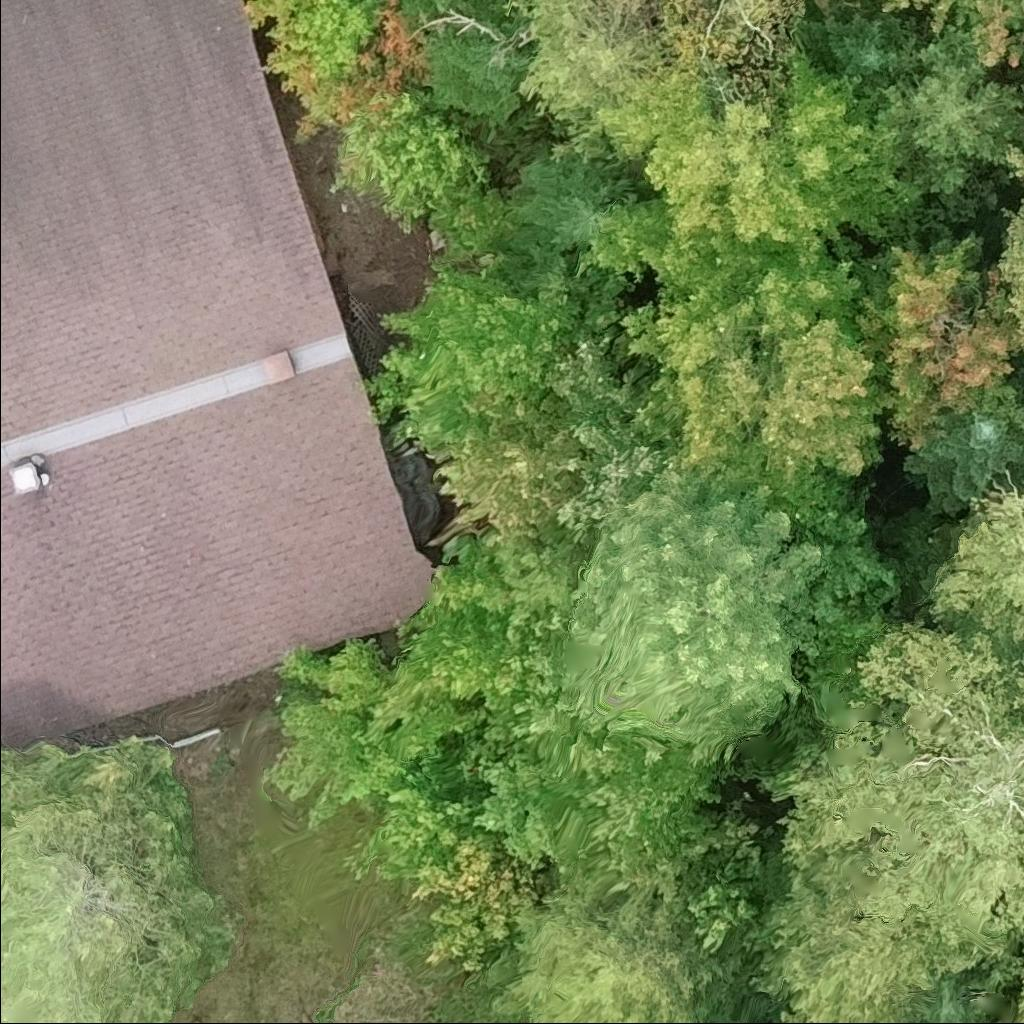crown: (574, 199, 899, 508), (760, 609, 1023, 951), (551, 31, 926, 267), (566, 450, 825, 768), (0, 739, 238, 1023), (366, 244, 598, 451), (752, 843, 983, 1023), (485, 868, 742, 1023), (855, 237, 1023, 451), (863, 11, 1023, 193), (547, 717, 724, 879), (329, 86, 493, 234), (506, 0, 685, 132), (262, 699, 420, 838), (422, 419, 583, 548), (242, 0, 384, 144), (411, 828, 545, 977), (362, 602, 518, 729), (498, 141, 657, 262), (922, 469, 1023, 653), (660, 0, 814, 98), (424, 0, 532, 128), (901, 407, 1023, 514), (876, 0, 1023, 70), (356, 695, 490, 769), (275, 636, 389, 717), (795, 13, 909, 85), (426, 534, 501, 611), (996, 194, 1023, 347), (911, 968, 986, 1023), (396, 0, 459, 18), (1003, 142, 1023, 186), (1000, 1003, 1023, 1023), (1014, 964, 1023, 1010), (1015, 930, 1023, 952), (1022, 406, 1023, 415)
